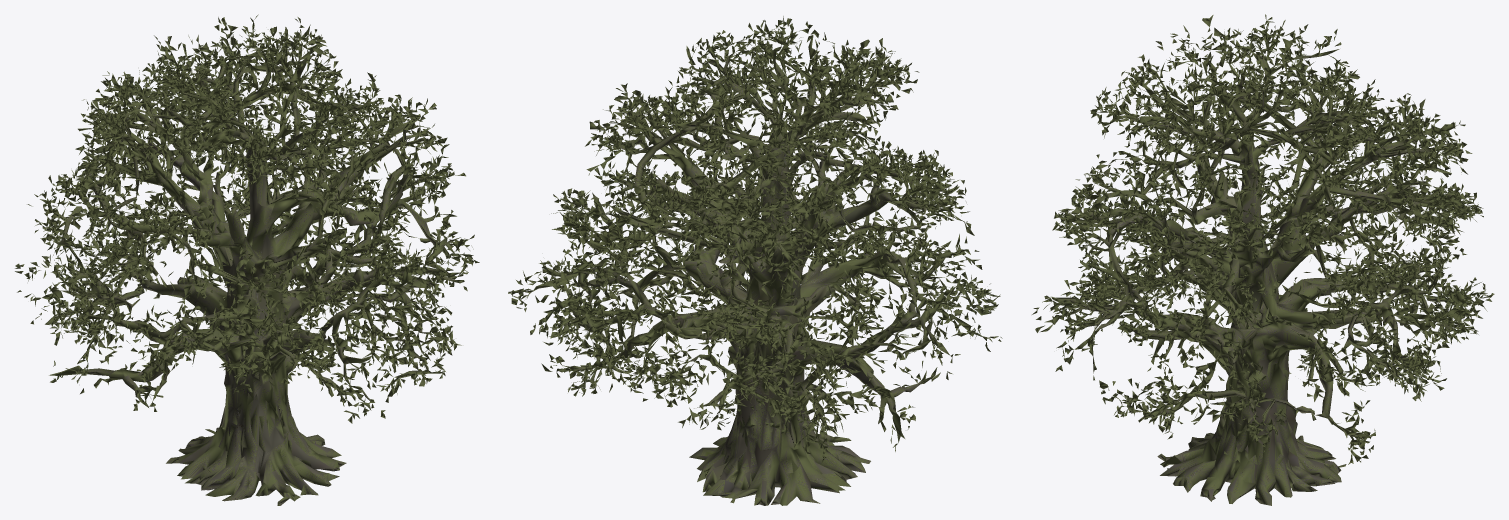
Rendered from tree_oak.glb.
3 views of the same model, side by side, from view 1: azimuth 30°, elevation 25°; view 2: azimuth 150°, elevation 25°; view 3: azimuth 270°, elevation 25° (orthographic). The views are drawn at different scales.
Parts seen in each view (by area): view 1: tree_oak; view 2: tree_oak; view 3: tree_oak.
Boxes of the visible parts, <box> form: tree_oak: <box>15,14,479,505</box>; tree_oak: <box>508,16,1002,505</box>; tree_oak: <box>1032,14,1494,505</box>.
Size of the model in its own units: 178 by 188 by 182.
Materials: 1 (1 with a texture image).
